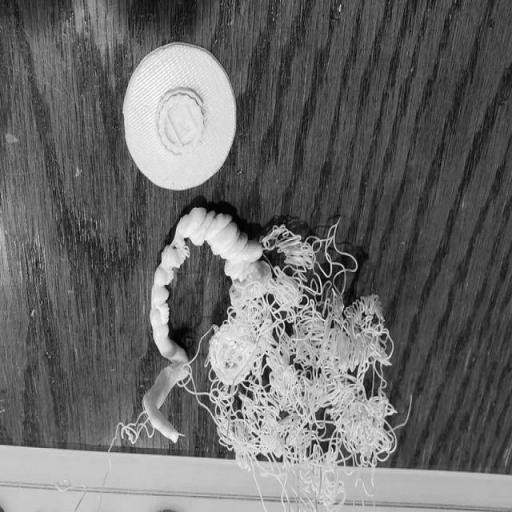spaghetti_and_stringing: (285, 308, 401, 465), (266, 227, 333, 318), (218, 387, 280, 457), (215, 317, 263, 390), (278, 462, 342, 510)
